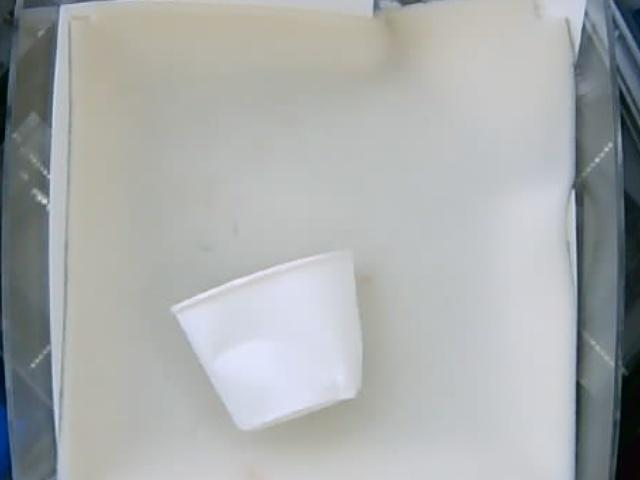Cup: (169, 244, 365, 427)
